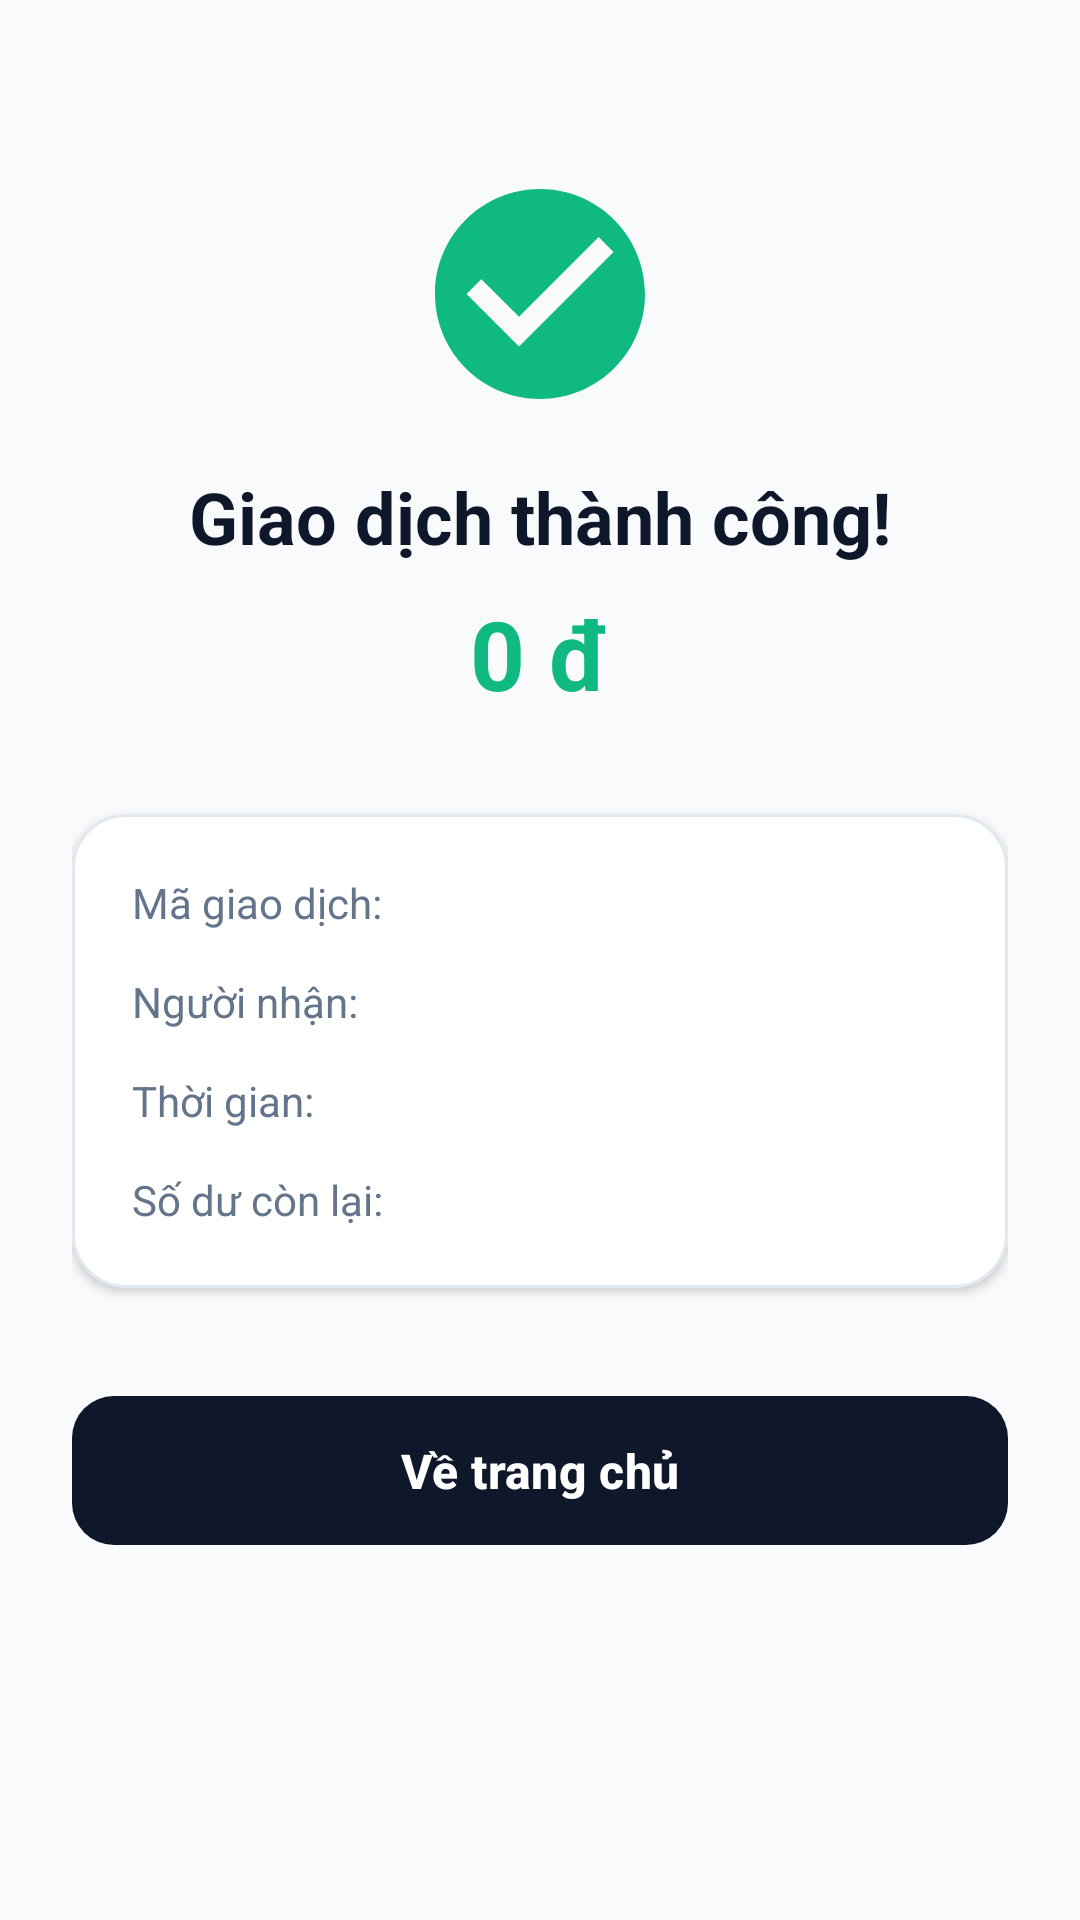

Screen size 1080 x 1920. Icon name, then its box in pixels as [left=x1, top=y1, right=x2, bottom=y2]:
check circle: [left=435, top=189, right=645, bottom=399]
